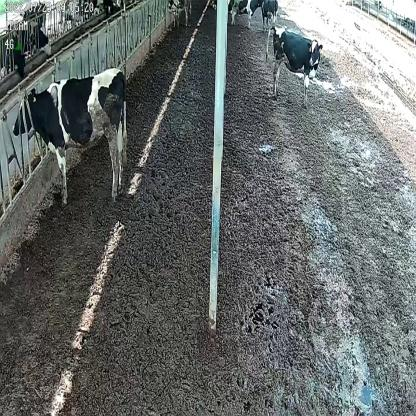cow: (13, 68, 129, 210), (264, 23, 322, 108), (232, 1, 264, 30), (262, 0, 278, 31)
